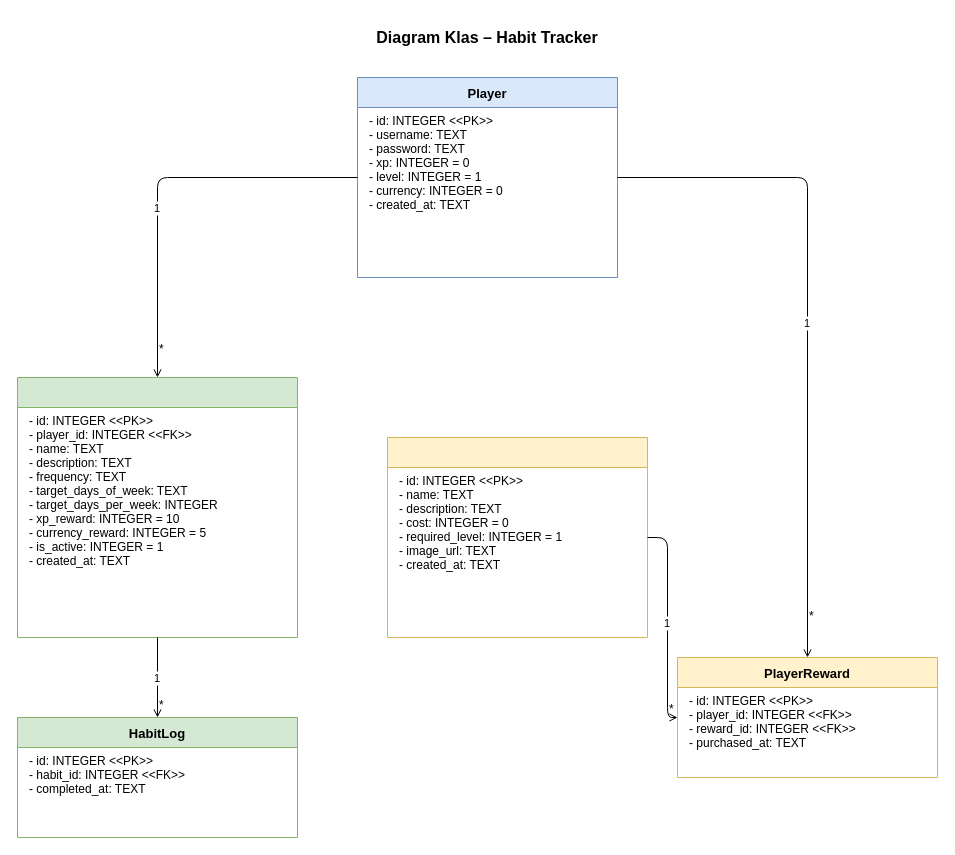
This 955x855 diagram has some shape labels left out. The box of each missing label's shape, as (x1, y1, x2, y2) in pixels:
Habit: (16, 376, 298, 638)
Reward: (386, 436, 648, 638)
